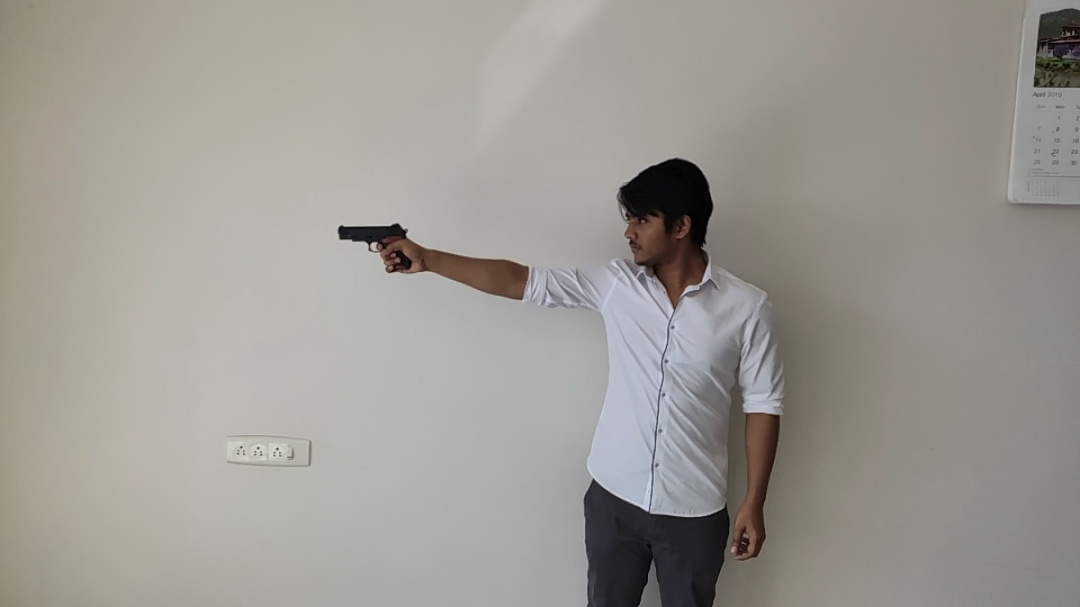gun: (337, 223, 412, 270)
